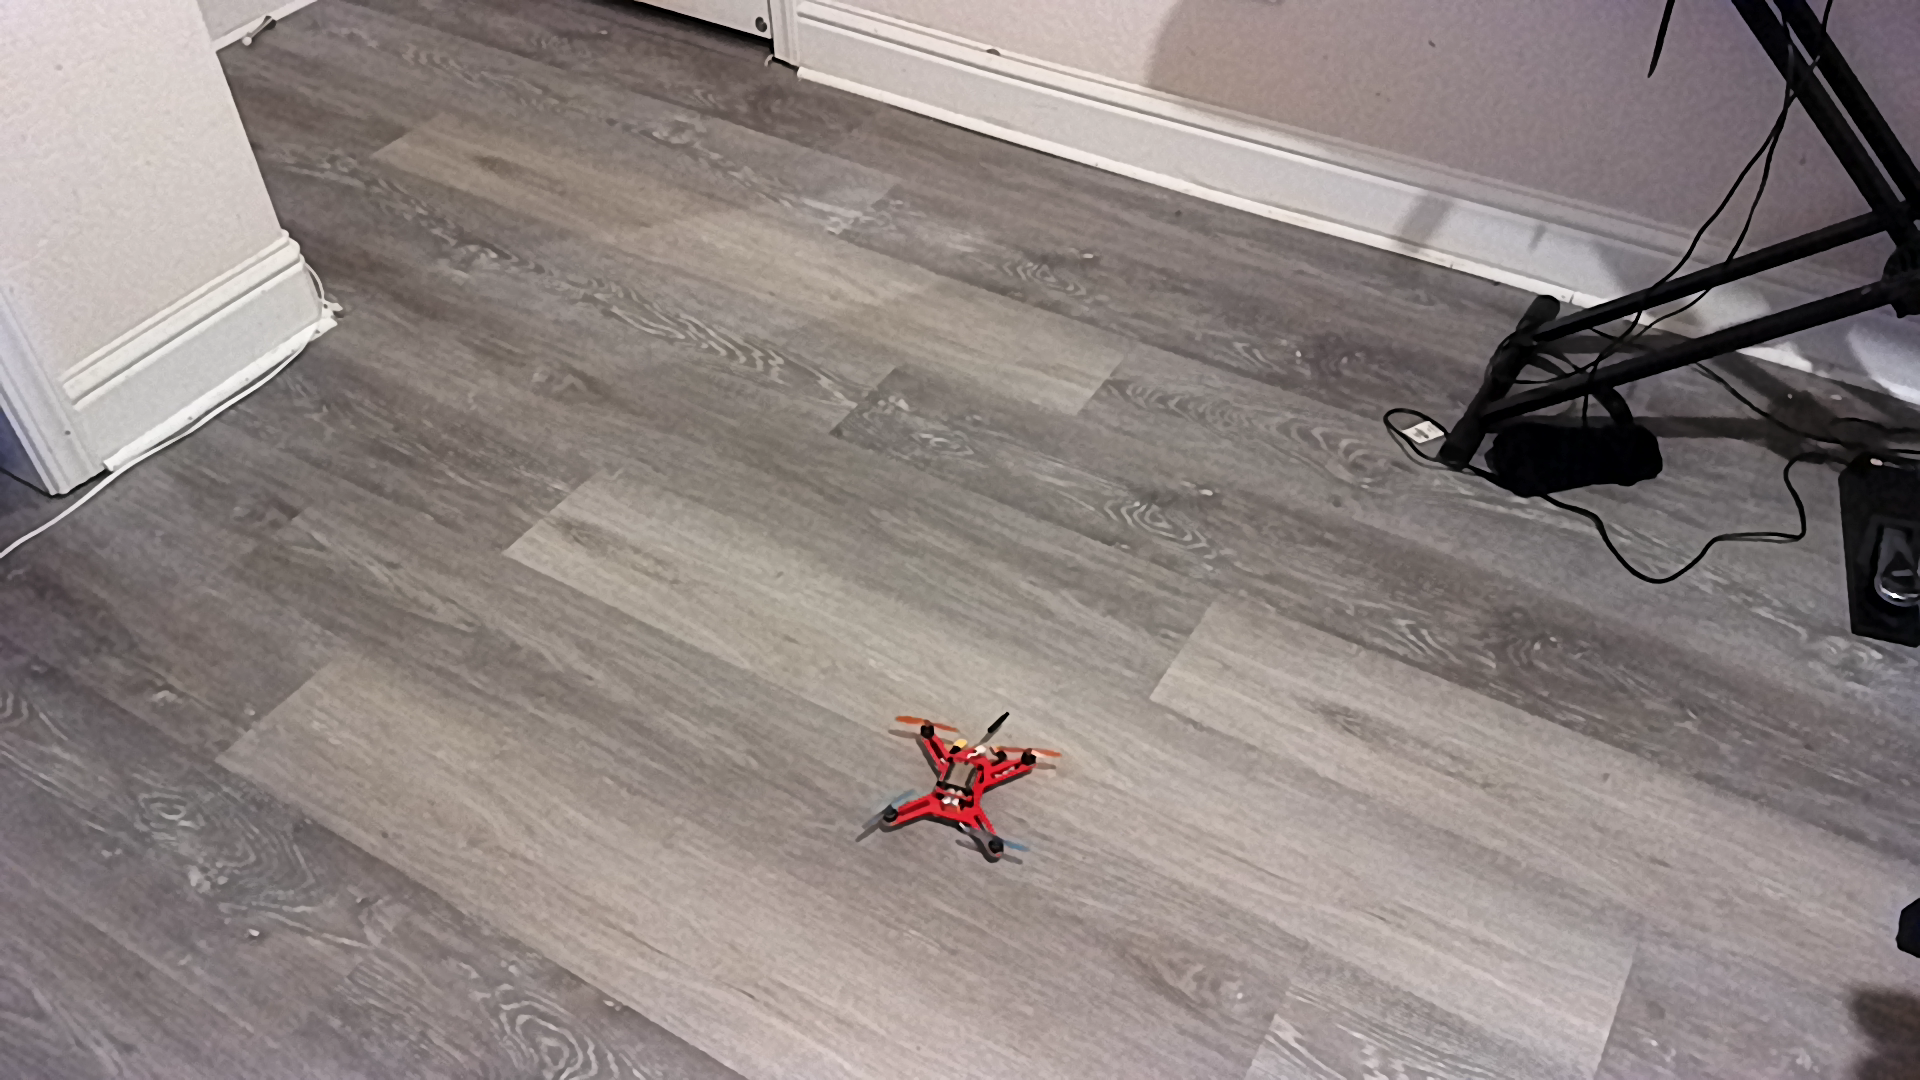drone: (858, 707, 1084, 884)
